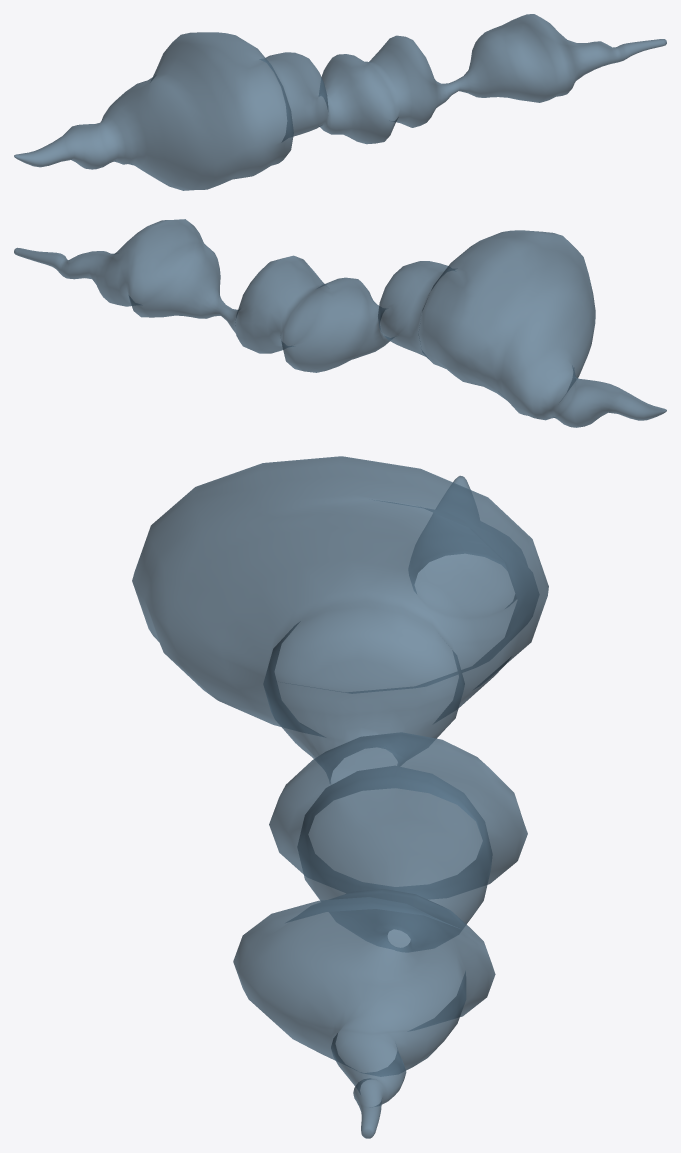
Rendered from cloud2.fbx.
3 views of the same model, one above another, from view 1: azimuth 30°, elevation 25°; view 2: azimuth 150°, elevation 25°; view 3: azimuth 270°, elevation 25° (orthographic). The views are drawn at different scales.
Parts seen in each view (by area): view 1: Cloud_BG1; view 2: Cloud_BG1; view 3: Cloud_BG1.
Boxes of the visible parts, x1,y1,x2,y2 form: Cloud_BG1: (14, 14, 666, 190); Cloud_BG1: (14, 219, 666, 427); Cloud_BG1: (132, 456, 548, 1138).
Bounding box in the file's own units: 560 × 122 × 161.
